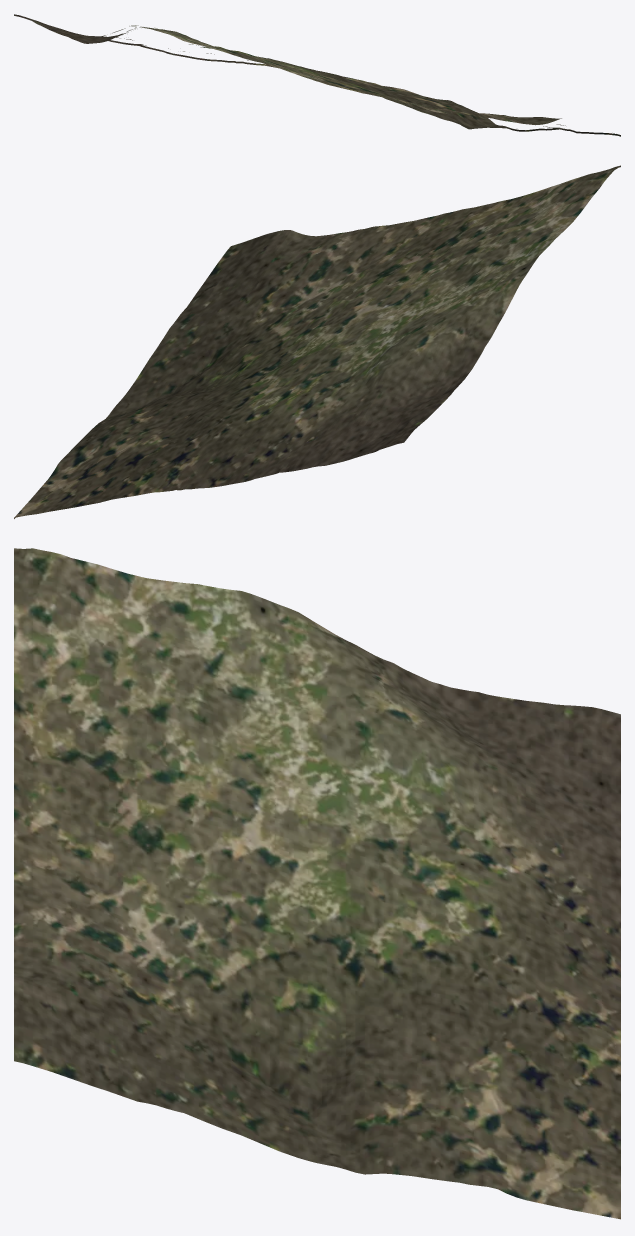
3 renders of one model, top to bottom at view 1: azimuth 30°, elevation 25°; view 2: azimuth 150°, elevation 25°; view 3: azimuth 270°, elevation 25°, orthographic. The views are drawn at different scales.
Size of the model in its own units: 250 by 178 by 241.
1 material, 1 textured.
